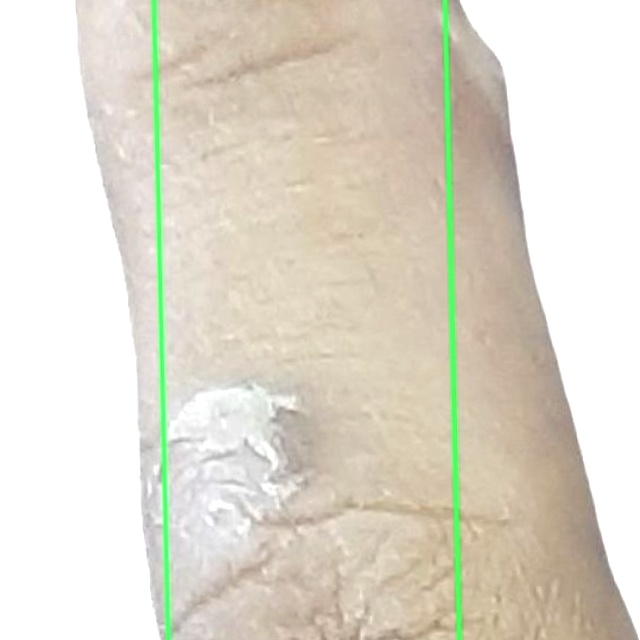Scabies: (445, 0, 639, 639), (0, 0, 168, 639)
